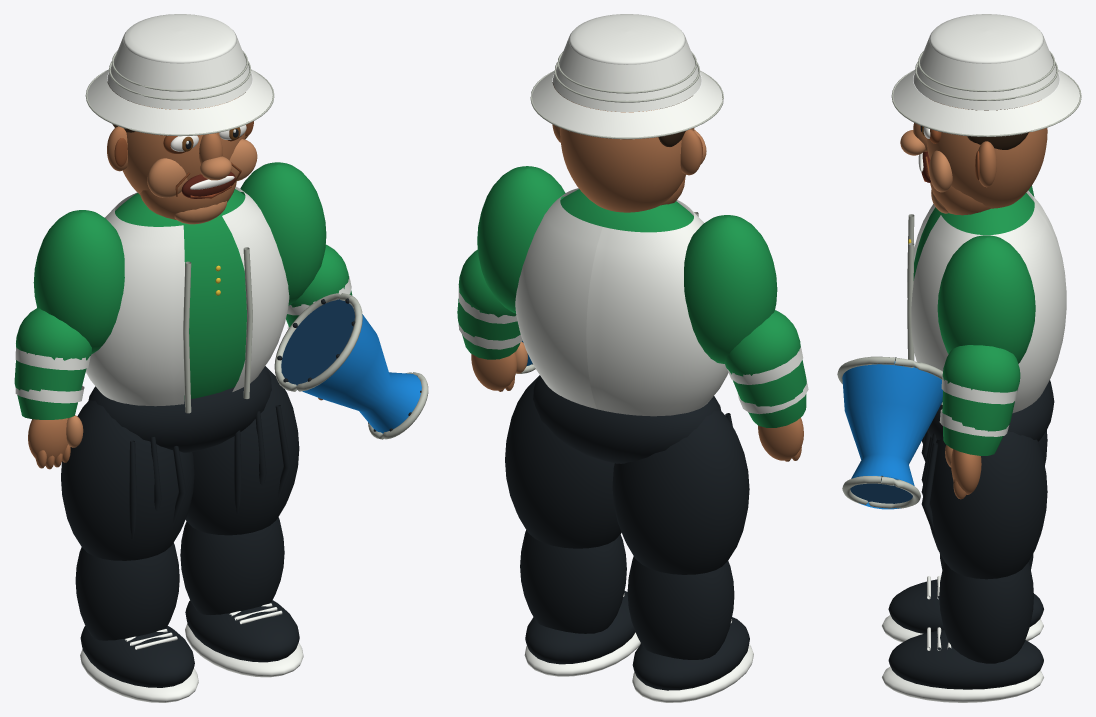
Rendered from hamido-prototype.glb.
3 views of the same model, side by side, from view 1: azimuth 30°, elevation 25°; view 2: azimuth 150°, elevation 25°; view 3: azimuth 270°, elevation 25° (orthographic). The views are drawn at different scales.
Parts seen in each view (by area): view 1: left_shalwar, vest_panel-1, green_shirt, right_shalwar, left_upper_sleeve, left_lower_shalwar, right_lower_shalwar, hips, right_upper_sleeve, bucket_crown, vest_panel1, darbuka_shell (+24 smaller); view 2: vest_panel-1, left_shalwar, vest_panel1, right_shalwar, left_upper_sleeve, right_lower_shalwar, left_lower_shalwar, head, hips, right_upper_sleeve, bucket_crown, bucket_brim (+16 smaller); view 3: right_shalwar, vest_panel1, right_upper_sleeve, darbuka_shell, right_lower_shalwar, bucket_crown, right_shoe, bucket_brim, head, bucket_top, right_elbow, right_fore_sleeve (+22 smaller).
Boxes of the visible parts, left/top/right/bottom form: left_shalwar: left=61, top=400, right=194, bottom=560; vest_panel-1: left=86, top=192, right=184, bottom=406; green_shirt: left=115, top=189, right=246, bottom=399; right_shalwar: left=185, top=366, right=299, bottom=535; left_upper_sleeve: left=33, top=210, right=124, bottom=354; left_lower_shalwar: left=75, top=543, right=179, bottom=640; right_lower_shalwar: left=180, top=517, right=284, bottom=614; hips: left=88, top=367, right=271, bottom=452; right_upper_sleeve: left=240, top=162, right=326, bottom=305; bucket_crown: left=107, top=36, right=252, bottom=109; vest_panel1: left=222, top=186, right=289, bottom=391; darbuka_shell: left=302, top=314, right=421, bottom=433; vest_panel-1: left=586, top=200, right=728, bottom=416; left_shalwar: left=612, top=410, right=749, bottom=574; vest_panel1: left=515, top=188, right=602, bottom=409; right_shalwar: left=505, top=375, right=621, bottom=548; left_upper_sleeve: left=684, top=215, right=777, bottom=363; right_lower_shalwar: left=520, top=530, right=626, bottom=633; left_lower_shalwar: left=627, top=556, right=734, bottom=659; head: left=560, top=99, right=694, bottom=212; hips: left=533, top=376, right=721, bottom=463; right_upper_sleeve: left=477, top=166, right=565, bottom=313; bucket_crown: left=552, top=36, right=701, bottom=112; bucket_brim: left=532, top=70, right=722, bottom=137; right_shalwar: left=929, top=431, right=1047, bottom=579; vest_panel1: left=911, top=205, right=1066, bottom=413; right_upper_sleeve: left=937, top=235, right=1035, bottom=363; darbuka_shell: left=842, top=361, right=942, bottom=509; right_lower_shalwar: left=939, top=562, right=1033, bottom=663; bucket_crown: left=913, top=30, right=1059, bottom=110; right_shoe: left=888, top=630, right=1043, bottom=689; bucket_brim: left=893, top=70, right=1079, bottom=135; head: left=927, top=100, right=1047, bottom=208; bucket_top: left=929, top=14, right=1043, bottom=63; right_elbow: left=942, top=345, right=1020, bottom=392; right_fore_sleeve: left=942, top=390, right=1014, bottom=455.
Bounding box in the file's own units: 1.23 × 2.07 × 0.7216.
